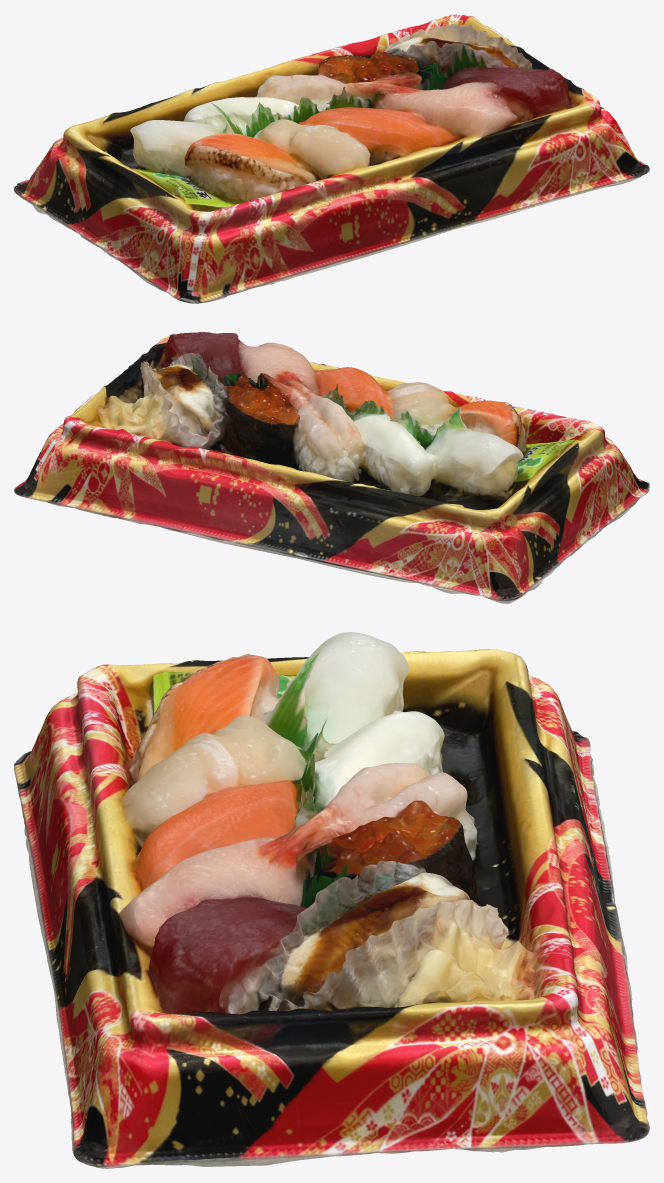
The model's file is sushi02_1.glb.
The picture shows the model from 3 angles, top to bottom: view 1: azimuth 30°, elevation 25°; view 2: azimuth 150°, elevation 25°; view 3: azimuth 270°, elevation 25°; orthographic projection. The views are drawn at different scales.
Visible parts, largest first — view 1: baked_mesh_0; view 2: baked_mesh_0; view 3: baked_mesh_0.
Part boxes in pixels (x1,y1,x2,y2): baked_mesh_0: [14, 14, 649, 303]; baked_mesh_0: [14, 332, 649, 603]; baked_mesh_0: [14, 632, 649, 1168].
Bounding box in the file's own units: 0.2718 × 0.0608 × 0.1687.
Materials: 1 (1 with a texture image).
